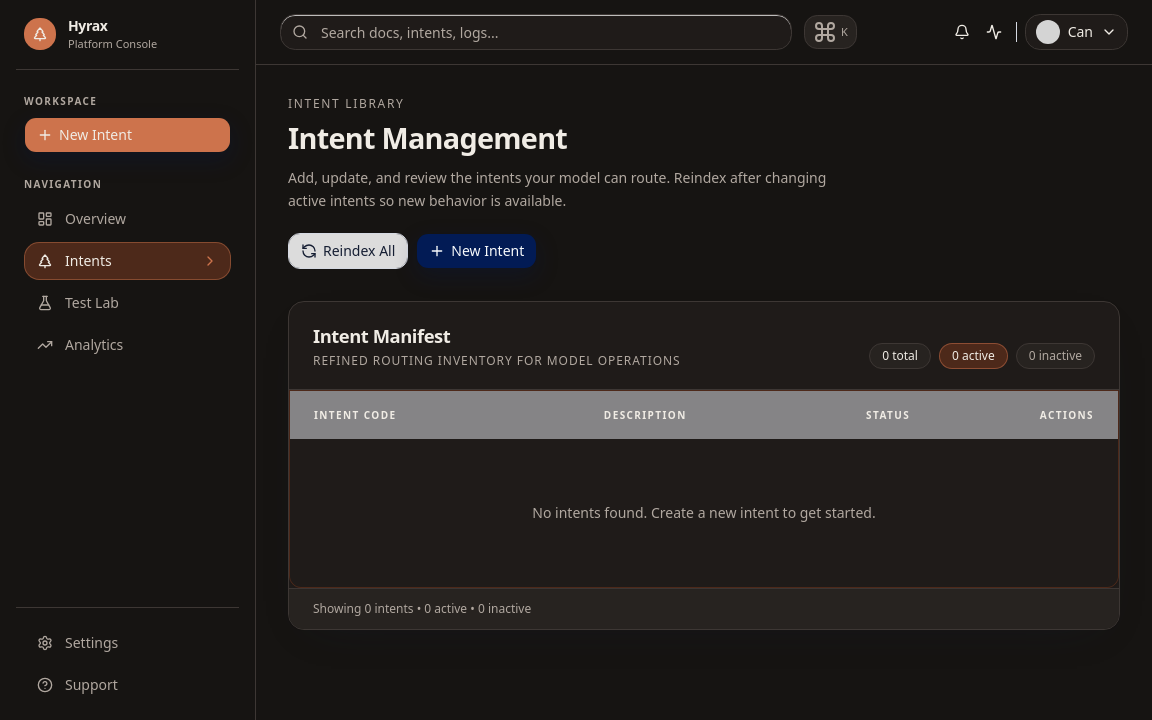
Test: IntentManagementPage › shows validation error when intent code is invalid
Click the button with aria-label "open create intent form". click: (477,251)
box: top-left (416, 233), bottom-right (537, 269)
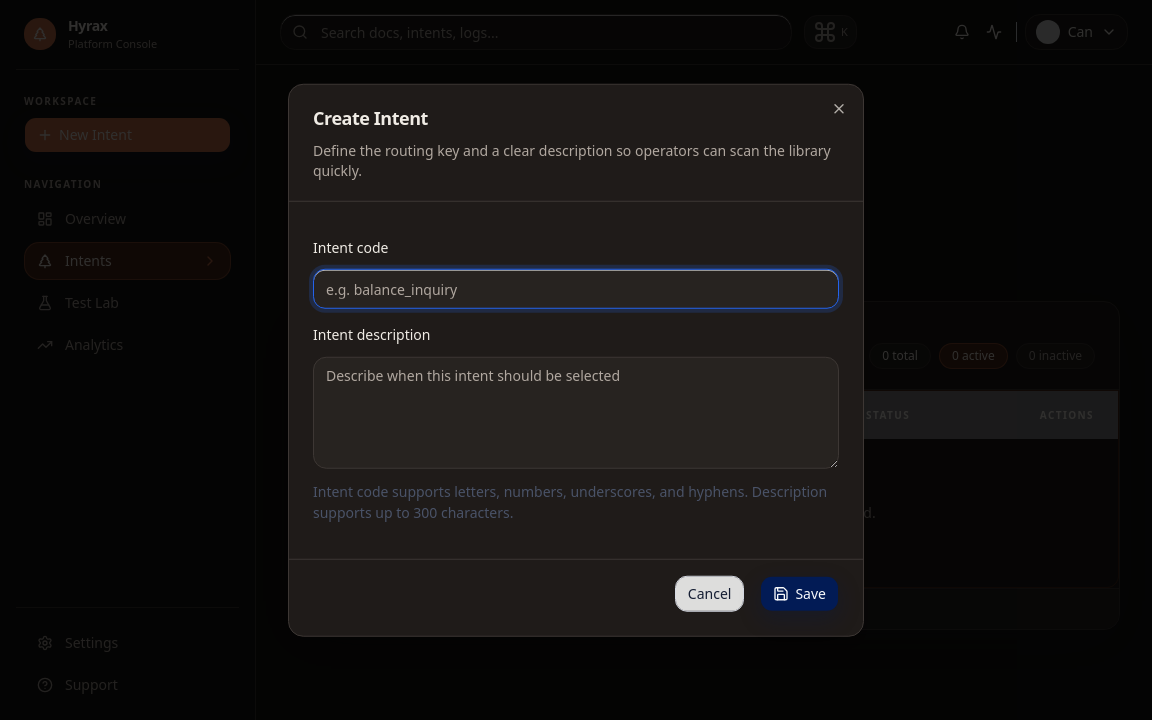
Type "invalid code" into the field labelled "Intent code". click: (576,289)
box: top-left (313, 269), bottom-right (839, 309)
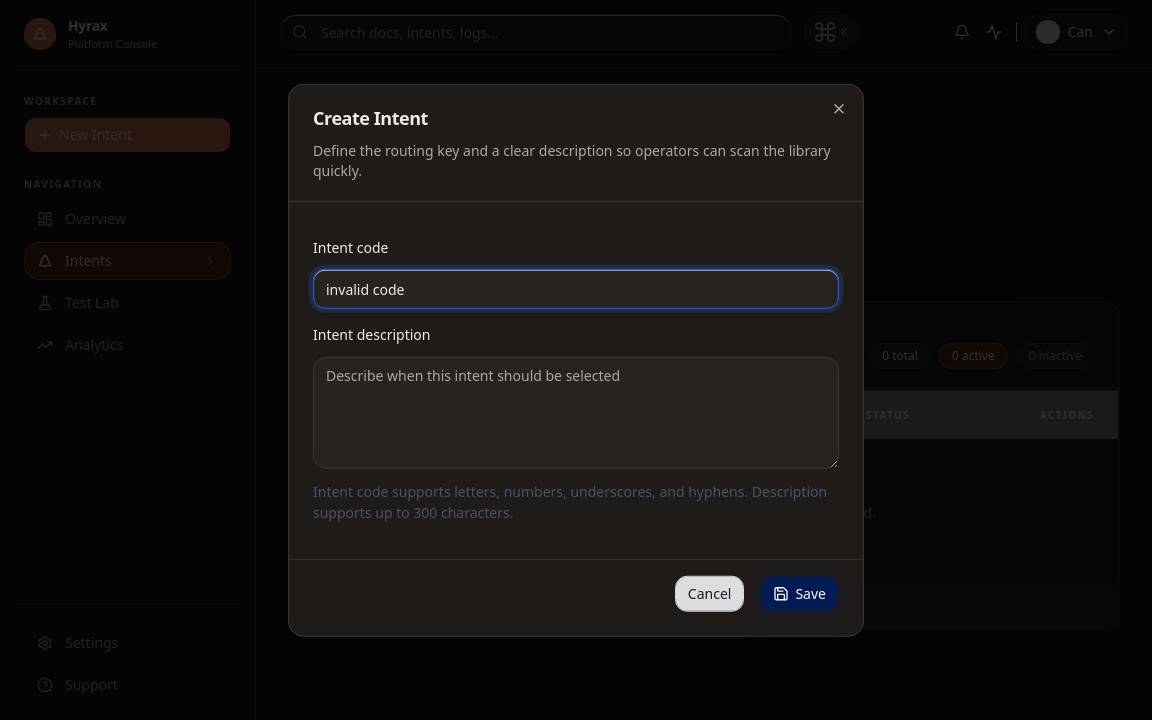
Type "desc" into the text box labelled "Intent description". click: (576,412)
box: top-left (313, 356), bottom-right (839, 468)
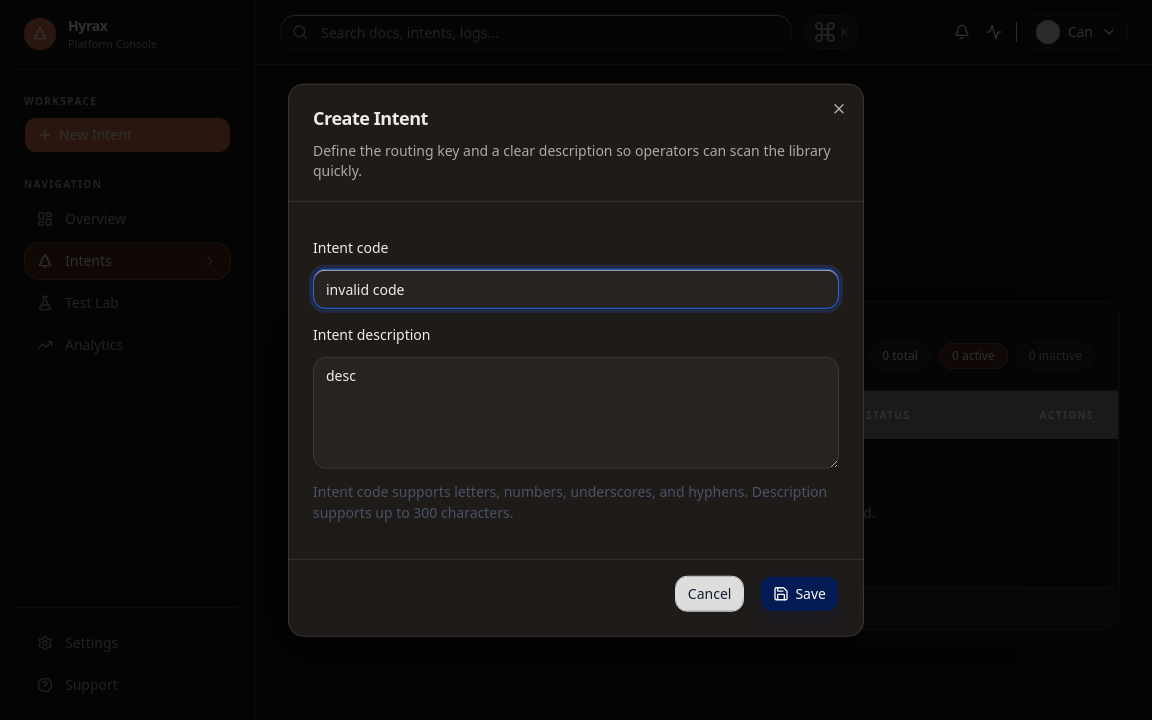
Click the button "Save". click: (800,593)
box: top-left (760, 575), bottom-right (839, 611)
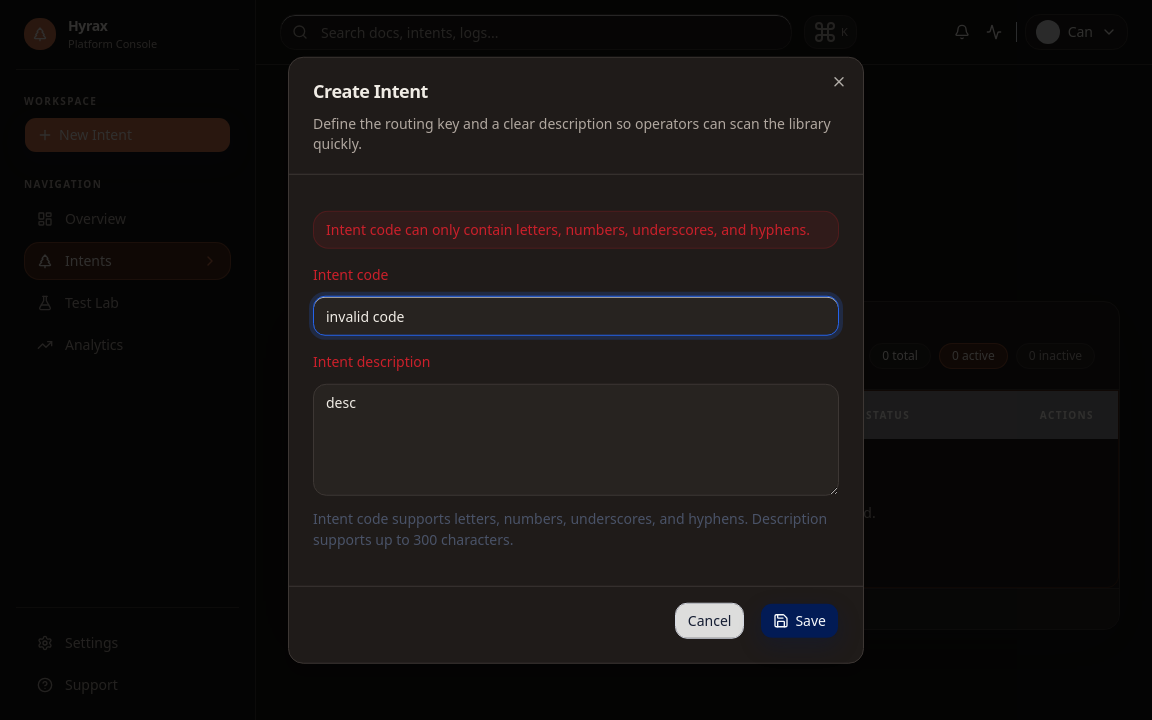
Now the text "Intent code can only contain letters, numbers, underscores, and hyphens." is shown, box top-left (313, 211), bottom-right (839, 249)
